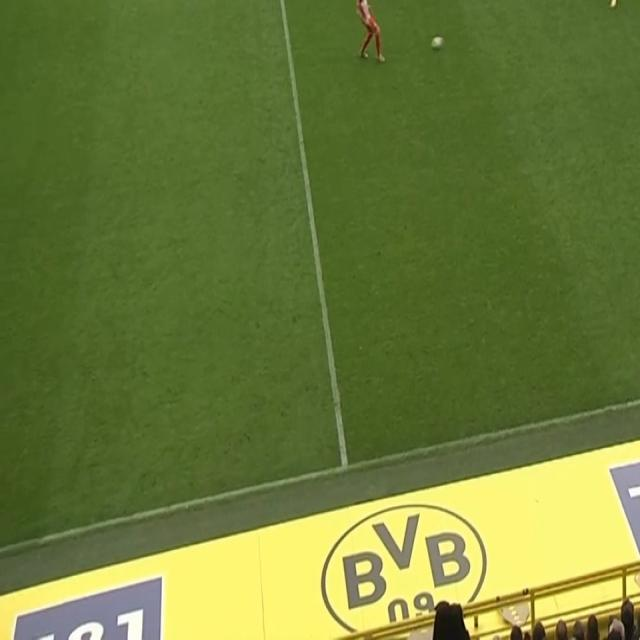ball: (430, 34, 444, 51)
